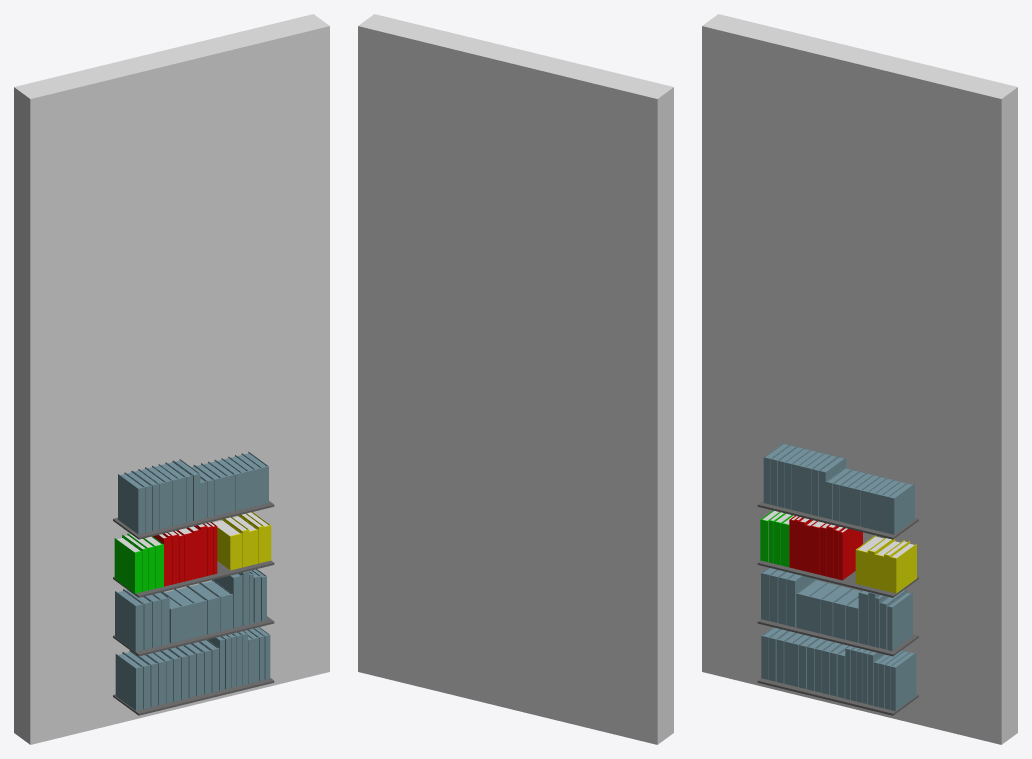
File: bookshelf.dae
3 renders of one model, left to right at view 1: azimuth 30°, elevation 25°; view 2: azimuth 150°, elevation 25°; view 3: azimuth 330°, elevation 25°, orthographic.
Parts seen in each view (by area): view 1: polySurface75; view 2: polySurface75; view 3: polySurface75.
Part boxes in pixels (x1,y1,x2,y2): polySurface75: (14,14,329,744); polySurface75: (358,14,673,744); polySurface75: (702,14,1017,744).
Size of the model in its own units: 52.98 by 109 by 13.14.
